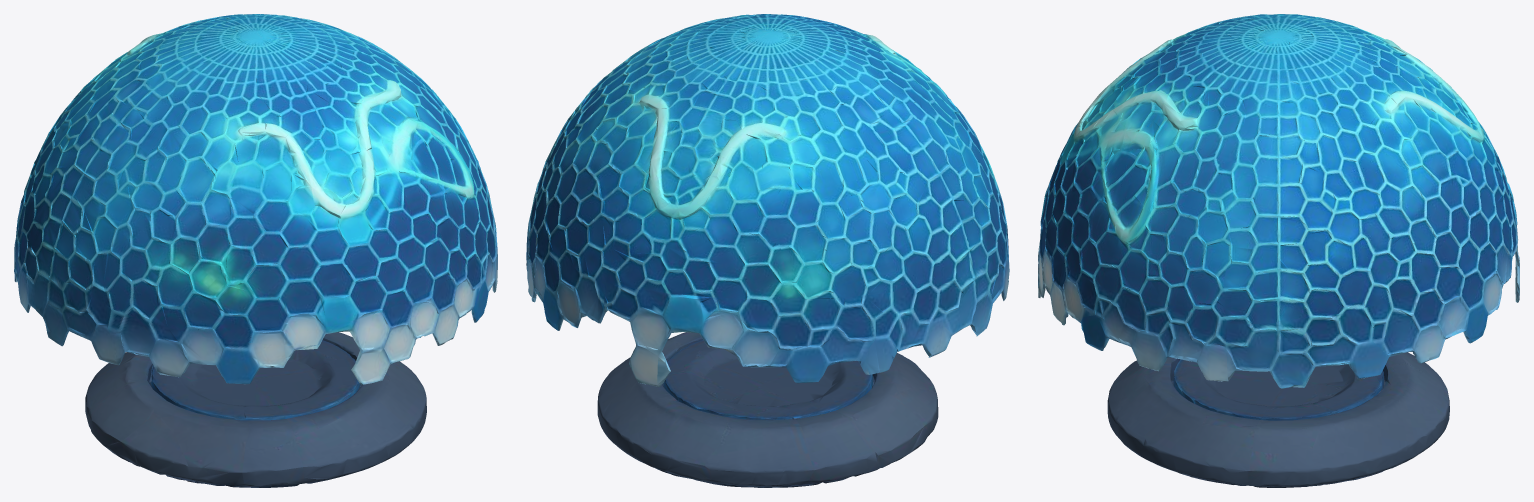
File: objet-bouclier.glb
3 renders of one model, left to right at view 1: azimuth 30°, elevation 25°; view 2: azimuth 150°, elevation 25°; view 3: azimuth 270°, elevation 25°, orthographic.
Size of the model in its own units: 0.98 by 0.8605 by 0.9778.
1 material, 1 textured.
